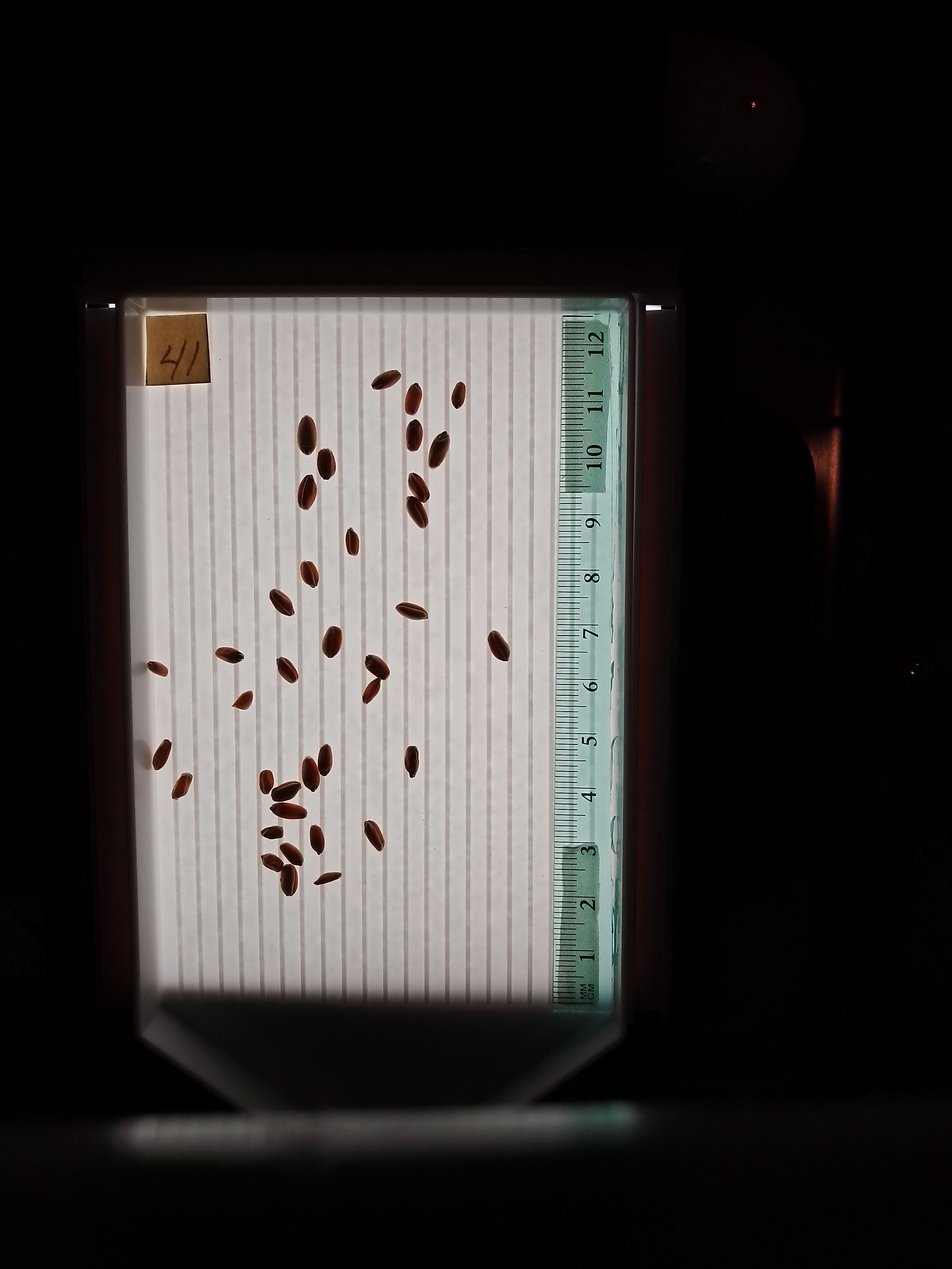seed mask: (428, 432, 450, 469), (297, 416, 317, 455), (487, 631, 510, 662), (364, 820, 386, 851), (301, 757, 321, 791), (407, 496, 428, 528), (269, 589, 294, 615), (298, 476, 317, 510), (365, 655, 389, 681), (322, 626, 342, 657), (408, 474, 430, 502), (271, 781, 301, 801), (317, 448, 336, 479), (396, 602, 427, 621), (272, 803, 306, 820), (372, 370, 400, 390), (405, 384, 423, 415), (280, 865, 298, 896), (277, 657, 298, 683), (172, 773, 193, 799), (406, 420, 423, 451), (153, 741, 171, 770), (317, 745, 333, 776), (404, 746, 420, 777), (281, 843, 303, 865), (215, 647, 243, 664), (301, 561, 319, 587), (309, 825, 325, 854), (363, 680, 381, 704), (345, 529, 360, 556), (259, 769, 274, 794), (234, 691, 253, 710), (451, 383, 466, 407), (262, 854, 282, 871), (147, 661, 169, 676), (316, 872, 341, 885), (262, 825, 283, 840)
